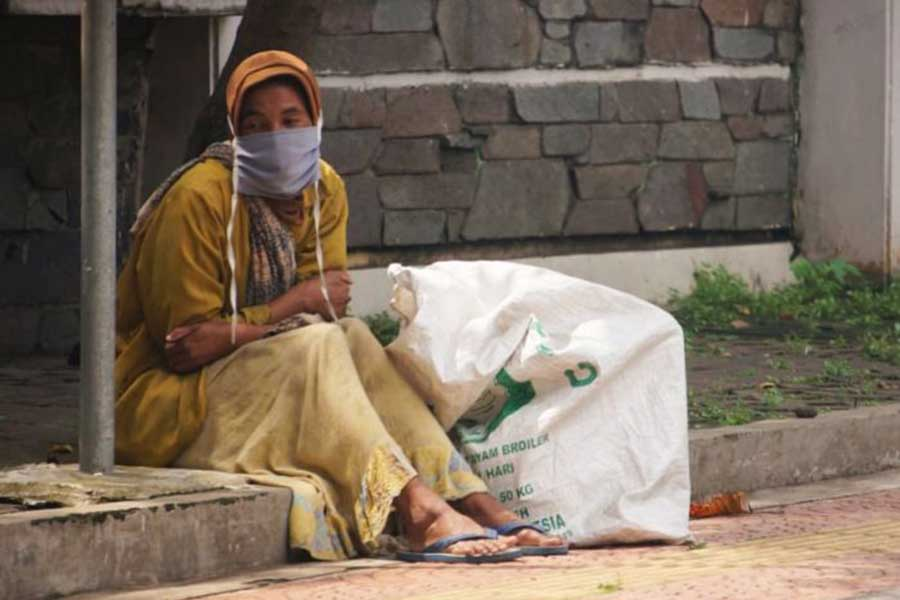pemulung: (119, 50, 700, 560)
